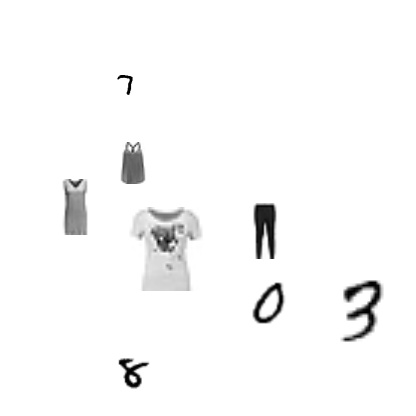0: (241, 275, 297, 331)
3: (320, 263, 404, 347)
7: (113, 68, 141, 96)
8: (110, 351, 152, 393)
Shirt: (47, 179, 103, 235)
T-shirt/top: (124, 207, 208, 291), (112, 142, 154, 184)
Trouser: (236, 203, 292, 259)
